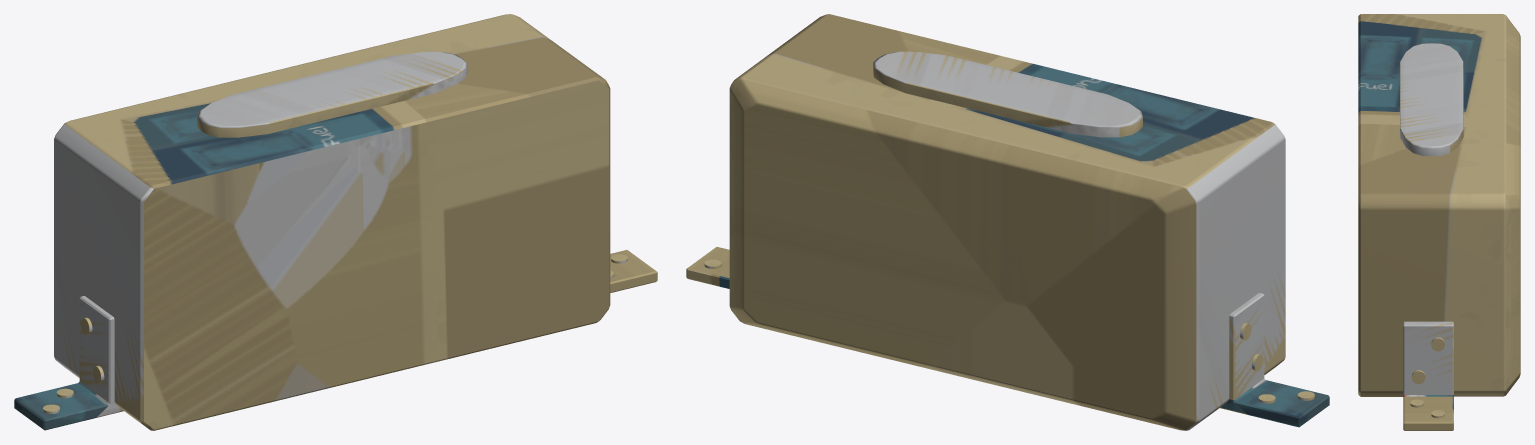
File: G_AlarmClock.fbx
3 renders of one model, left to right at view 1: azimuth 30°, elevation 25°; view 2: azimuth 150°, elevation 25°; view 3: azimuth 270°, elevation 25°, orthographic. The views are drawn at different scales.
Visible parts, largest first — view 1: Body, Button, Lclamp, Lclamp2; view 2: Body, Button, Lclamp, Lclamp2; view 3: Body, Button, Lclamp2, Bolt5.
Boxes of the visible parts, x1,y1,x2,y2 form: Body: (54,14,610,430); Button: (197,52,467,137); Lclamp: (14,296,123,430); Lclamp2: (610,250,657,292); Body: (729,14,1285,430); Button: (873,51,1142,137); Lclamp: (1220,293,1329,427); Lclamp2: (686,247,729,288); Body: (1358,14,1520,396); Button: (1400,43,1463,156); Lclamp2: (1403,321,1453,430); Bolt5: (1431,337,1444,351).
Size of the model in its own units: 32.34 by 12.92 by 8.92.
